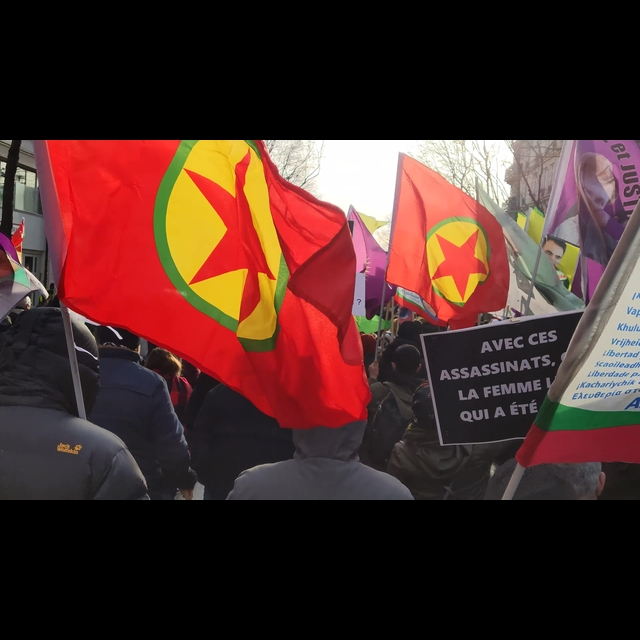PKK: (29, 129, 374, 429), (387, 150, 509, 325)
